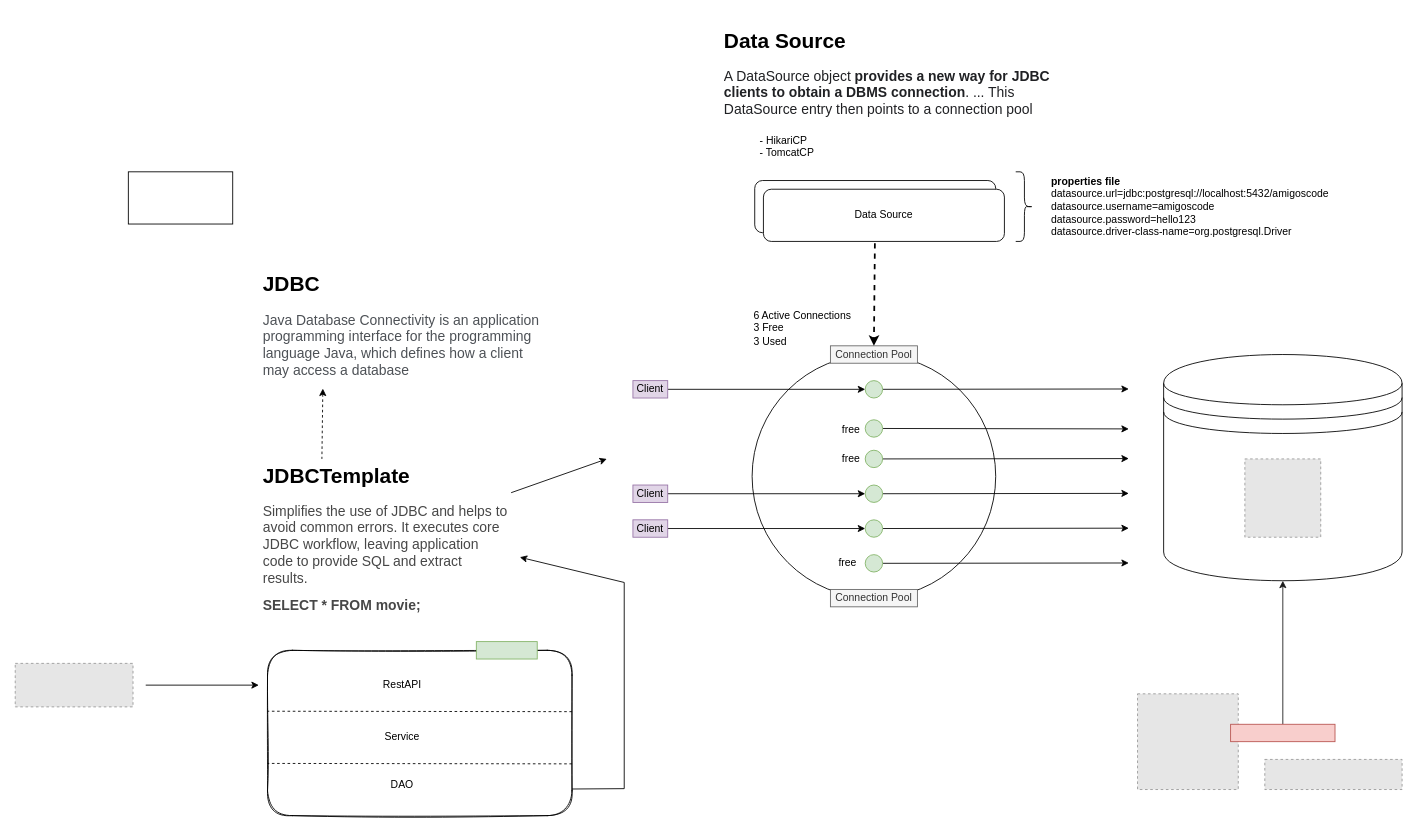
Some shapes in this 1418 by 831 pixel diagram are drawn without their labels. Grey dashed boxes stand in for pictures. The shapes that lost their labels are listed below. From the top down, each one's centre as x and y in pixels, then its label:
point (506, 650): backend
point (1282, 732): Database Migration
